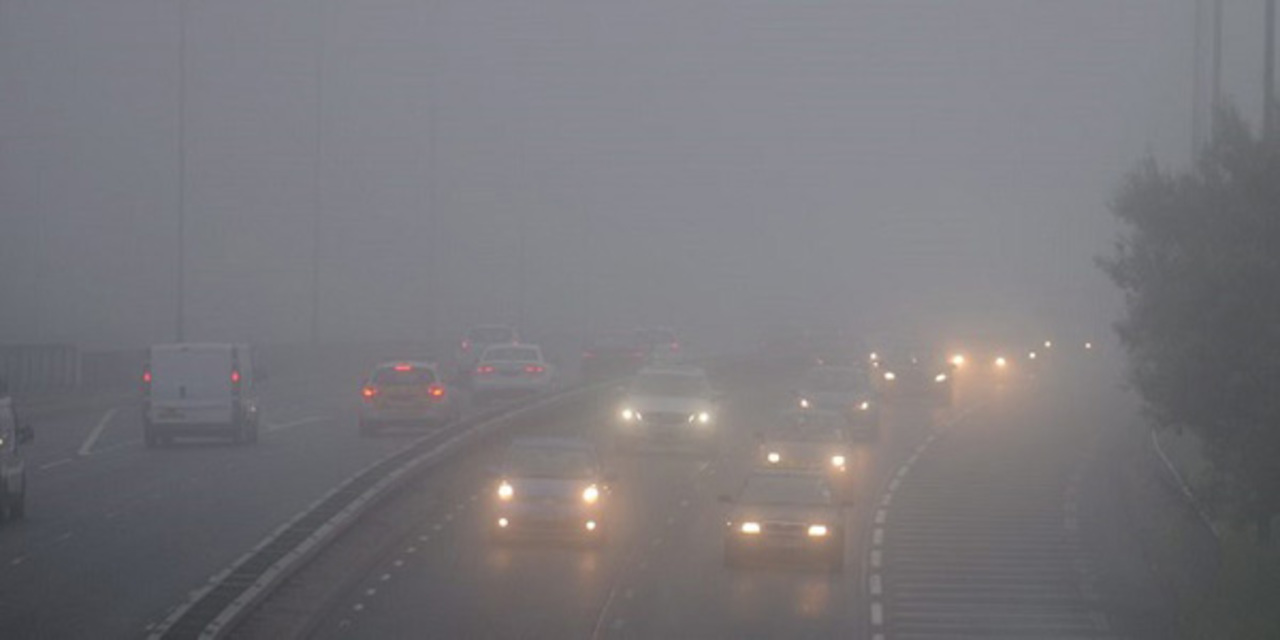car: (486, 437, 612, 555), (718, 461, 844, 573), (138, 339, 263, 445), (610, 363, 725, 453), (354, 359, 456, 433), (791, 363, 883, 444), (470, 343, 554, 402), (0, 395, 37, 524), (882, 343, 953, 407), (951, 333, 1008, 381), (583, 333, 641, 375), (625, 321, 685, 361)
